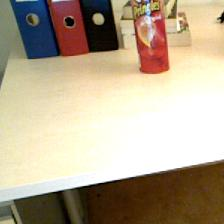YCB-Objects: (131, 1, 175, 77)
